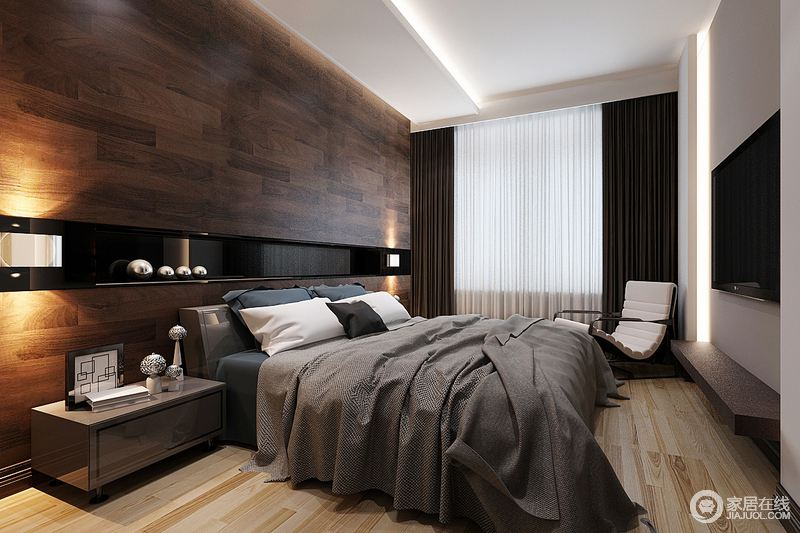床: (204, 310, 628, 509)
枕头: (229, 284, 411, 358)
灯: (0, 229, 70, 291), (383, 250, 405, 274)
